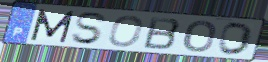B: (141, 16, 182, 51)
M: (29, 8, 77, 44)
O: (217, 21, 255, 57), (106, 15, 146, 48), (182, 19, 217, 53)
S: (70, 12, 110, 46)
